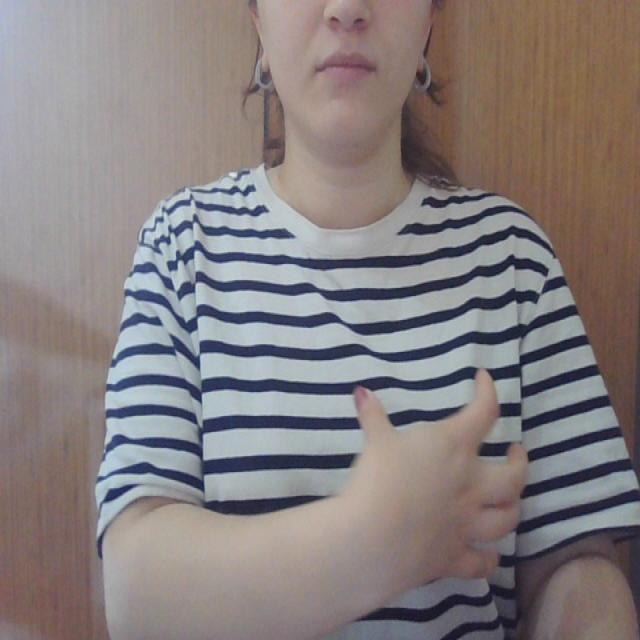Anne: (194, 366, 583, 586)
